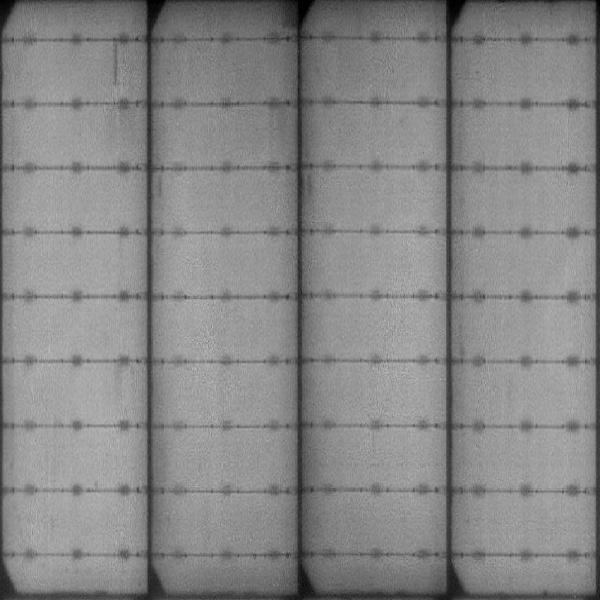scratch: (108, 34, 121, 89)
